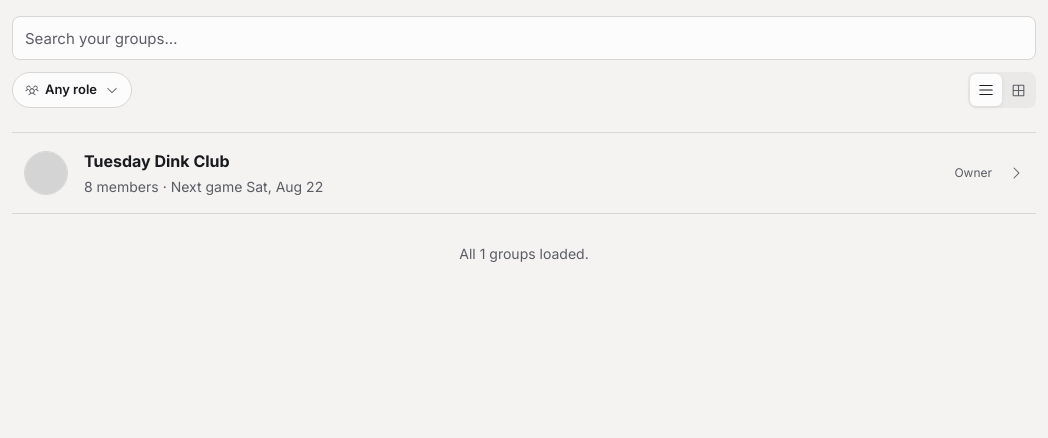
it: GroupCollection › defaults to a scannable list and switches to a persistent grid
expect the element with test id "groups-list" is shown: met, box [12, 132, 1036, 214]
Step 1. Click the button named "Grid view" → (1018, 90), box [1002, 74, 1034, 106]
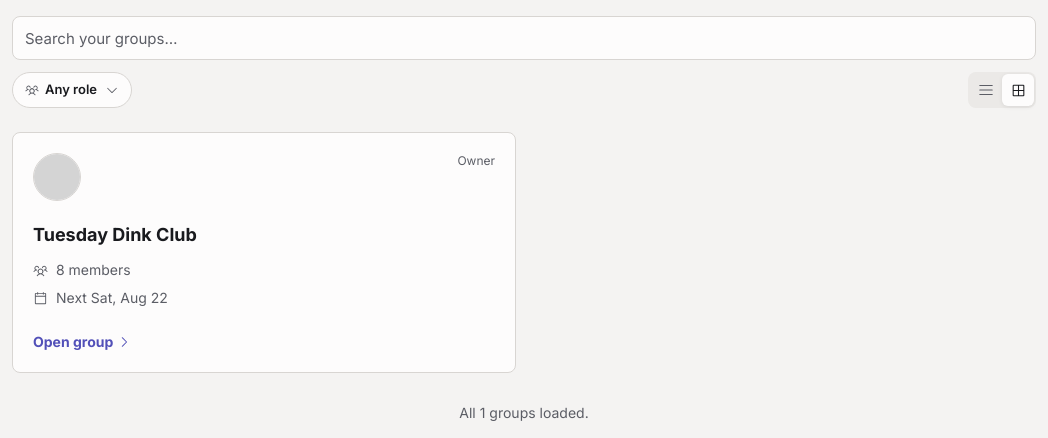
expect the element with test id "groups-grid" is shown: met, box [12, 132, 516, 373]
